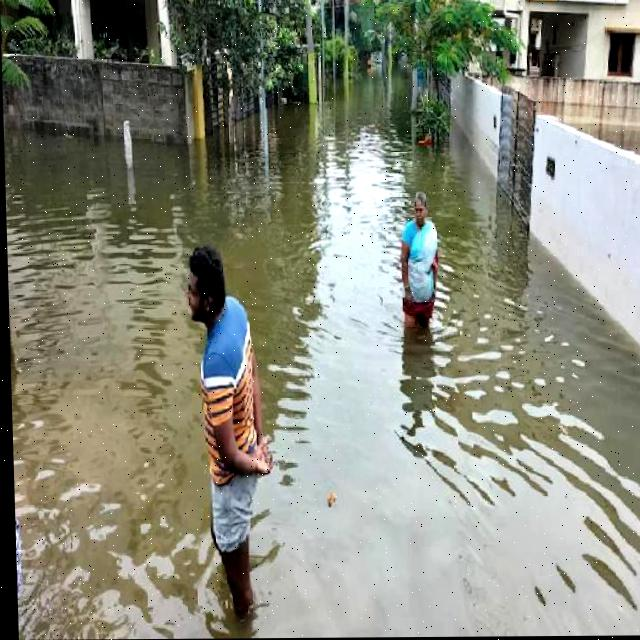civilian: (174, 230, 285, 631), (382, 177, 451, 373)
